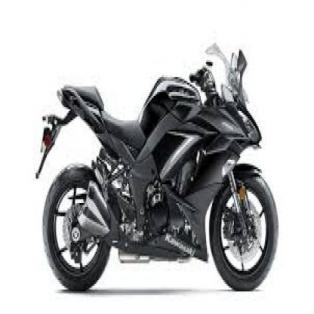Motocicleta: (28, 29, 285, 294)
